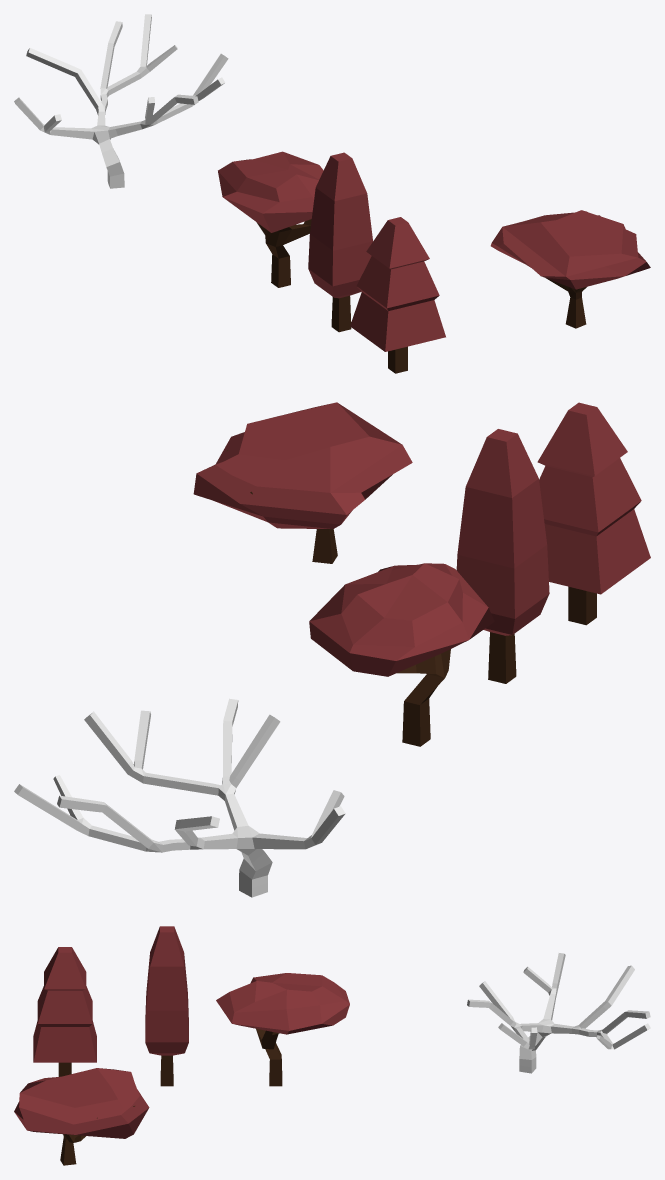
File: BlenderTrees.fbx
3 renders of one model, top to bottom at view 1: azimuth 30°, elevation 25°; view 2: azimuth 150°, elevation 25°; view 3: azimuth 270°, elevation 25°, orthographic. The views are drawn at different scales.
Parts seen in each view (by area): view 1: Acacia 1, Pine Tree, Cypress Tree, Acacia 2, Cube; view 2: Acacia 1, Acacia 2, Pine Tree, Cypress Tree, Cube; view 3: Acacia 1, Acacia 2, Pine Tree, Cypress Tree, Cube.
Part boxes in pixels (box(x1,y1,x2,y2)): Acacia 1: box(490, 210, 650, 328); Pine Tree: box(350, 217, 445, 373); Cypress Tree: box(308, 152, 372, 332); Acacia 2: box(218, 151, 323, 287); Cube: box(14, 14, 228, 188); Acacia 1: box(193, 402, 412, 563); Acacia 2: box(309, 563, 494, 746); Pine Tree: box(537, 402, 650, 625); Cypress Tree: box(456, 429, 549, 683); Cube: box(14, 698, 345, 897); Acacia 1: box(14, 1068, 149, 1165); Acacia 2: box(216, 973, 349, 1086); Pine Tree: box(33, 947, 96, 1076); Cypress Tree: box(145, 926, 188, 1086); Cube: box(467, 953, 650, 1073).
Size of what is drawn, in the model's own units: 1386 by 646 by 2420.
